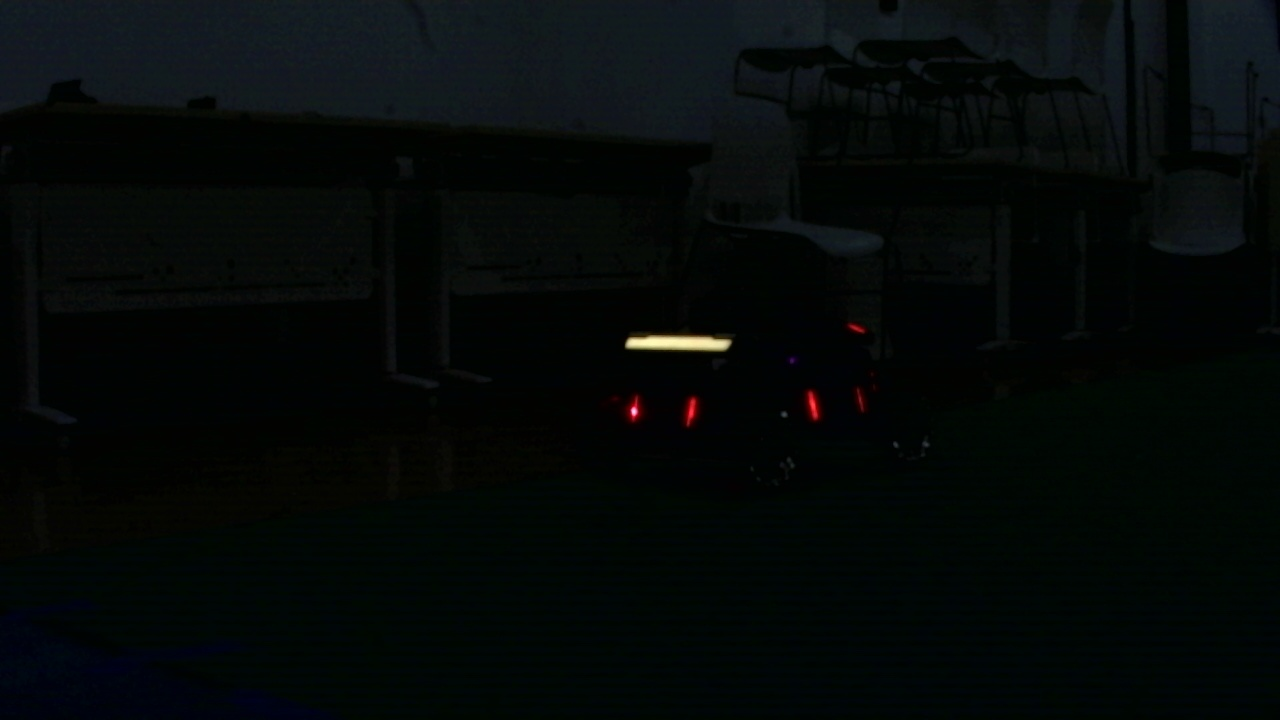lamp: (802, 389, 825, 426), (630, 391, 643, 424), (686, 392, 701, 420)
pair1: (629, 395, 700, 422)
